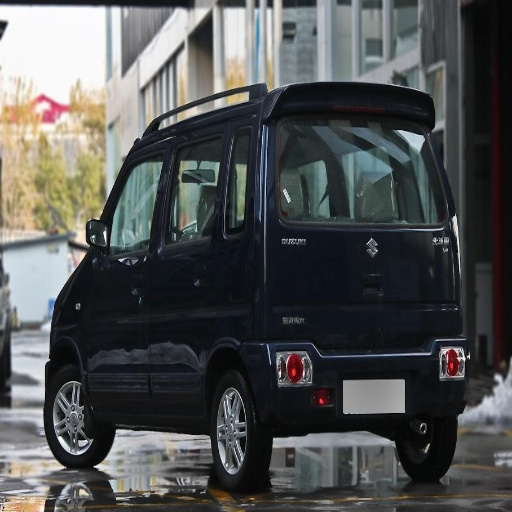back_bumper: (266, 346, 412, 428), (95, 335, 183, 420)
back_right_door: (278, 162, 344, 247)
hood: (74, 259, 113, 310)
trunk: (170, 230, 453, 407)
